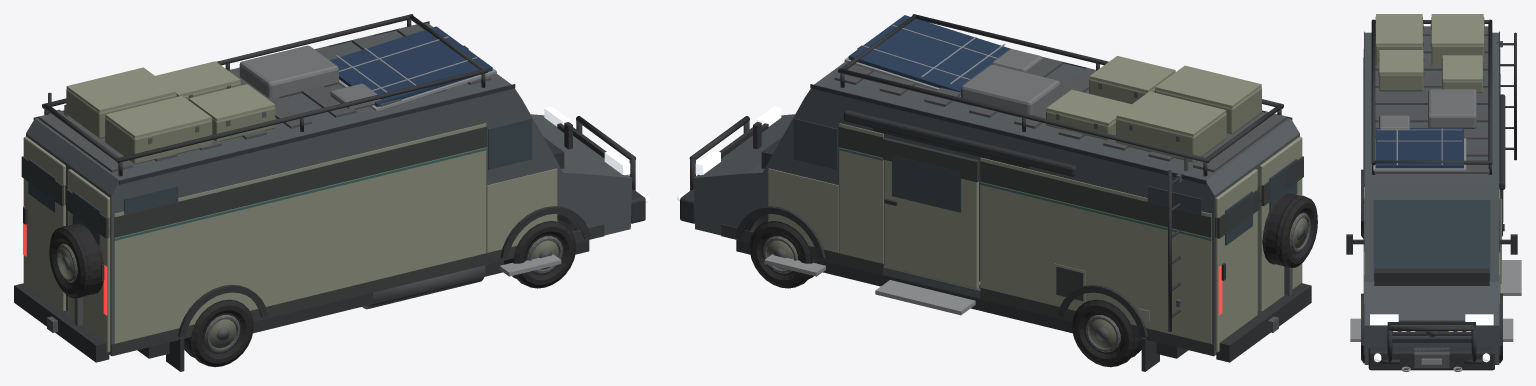
File: sprinter.glb
3 renders of one model, left to right at view 1: azimuth 30°, elevation 25°; view 2: azimuth 150°, elevation 25°; view 3: azimuth 270°, elevation 25°, orthographic. The views are drawn at different scales.
Visible parts, largest first — view 1: OliveSide.002, Chassis, BandStripe.002, SolarPanel, RockerBand.002, DoorLeaf, OliveCabDoor.001, ACCowl, CaseBig1Lid, DoorLeaf.001, CaseBig2Lid, CaseBig2 (+32 smaller); view 2: Chassis, OliveSide, DoorPanel, SolarPanel, DoorLeaf, OliveSide.001, BandStripe, OliveCabDoor, ACCowl, AwningCase, DoorWindow, CaseBig1Lid (+42 smaller); view 3: Chassis, Windshield, SolarPanel, Dash, BumperBar, ACCowl, CaseBig1Lid, CaseBig2Lid, CaseMidLid, CaseFlatLid, Grille, CaseMid (+37 smaller).
Part boxes in pixels (x1,y1,x2,y2): OliveSide.002: (114,123,486,343); Chassis: (26,23,632,355); BandStripe.002: (114,126,487,237); SolarPanel: (330,26,492,106); RockerBand.002: (111,224,604,356); DoorLeaf: (23,136,65,311); OliveCabDoor.001: (486,168,557,252); ACCowl: (239,45,338,98); CaseBig1Lid: (66,67,176,112); DoorLeaf.001: (68,169,110,352); CaseBig2Lid: (105,96,211,138); CaseBig2: (105,117,212,164); Chassis: (693,62,1299,355); OliveSide: (980,157,1211,343); DoorPanel: (884,160,978,289); SolarPanel: (848,15,1010,92); DoorLeaf: (1215,169,1257,352); OliveSide.001: (839,123,883,263); BandStripe: (980,161,1211,237); OliveCabDoor: (768,168,838,252); ACCowl: (961,64,1060,117); AwningCase: (843,110,1076,176); DoorWindow: (892,155,961,212); CaseBig1Lid: (1116,91,1226,136); Chassis: (1364,32,1499,364); Windshield: (1373,200,1490,279); SolarPanel: (1375,128,1463,168); Dash: (1374,268,1489,285); BumperBar: (1368,347,1494,370); ACCowl: (1428,89,1476,128); CaseBig1Lid: (1431,14,1483,45); CaseBig2Lid: (1376,14,1422,45); CaseMidLid: (1379,50,1423,74); CaseFlatLid: (1442,55,1482,81); Grille: (1387,320,1475,342); CaseMid: (1379,53,1423,91).
Size of the model in its own units: 7.68 by 3.13 by 2.58.
